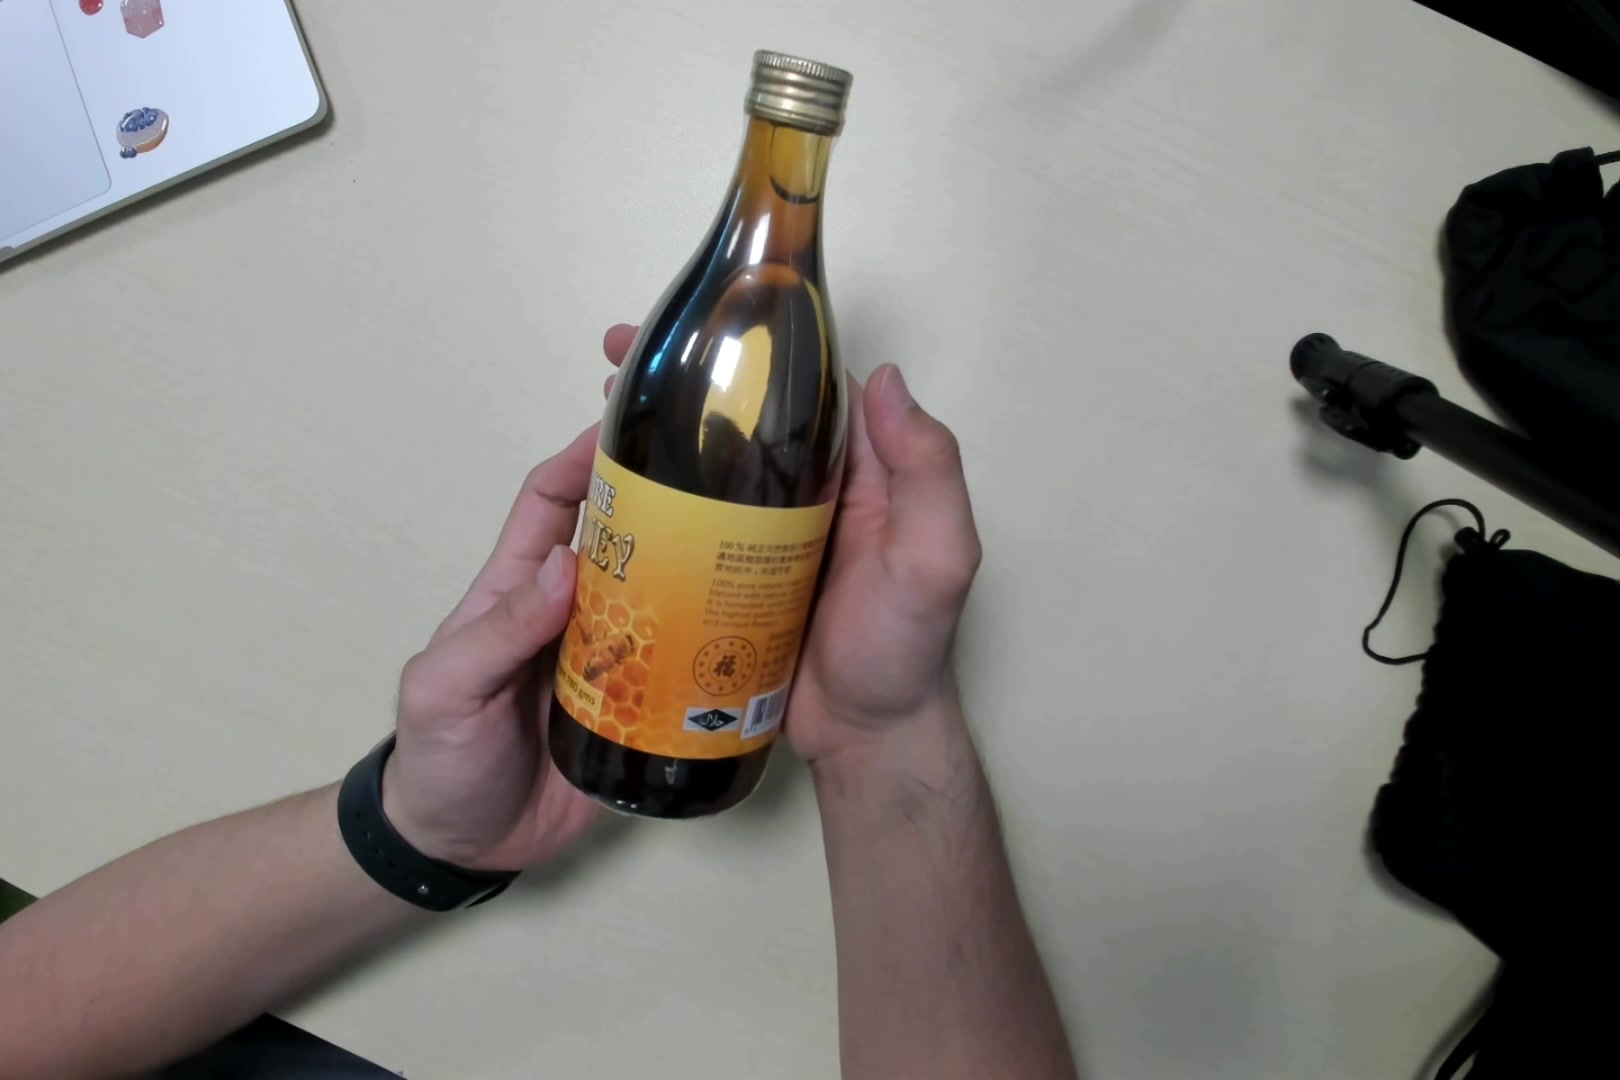OtherBakingNeeds_700-799g_Halal_NonHealthy: (558, 41, 853, 818)
